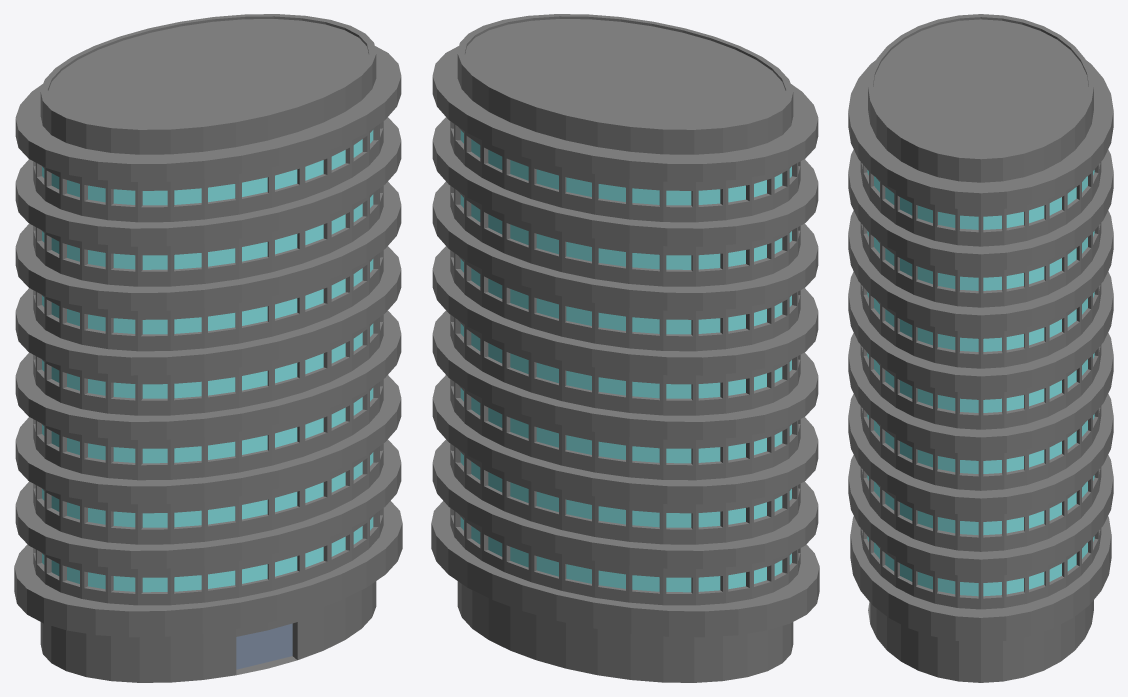
Rendered from oval_building.fbx.
3 views of the same model, side by side, from view 1: azimuth 30°, elevation 25°; view 2: azimuth 150°, elevation 25°; view 3: azimuth 270°, elevation 25° (orthographic). The views are drawn at different scales.
Visible parts, largest first — view 1: Circle.001, Circle.002, Circle; view 2: Circle.001, Circle.002, Circle; view 3: Circle.001, Circle.002, Circle.
Part boxes in pixels (x1=…): Circle.001: x1=15, y1=46, x2=401, y2=605; Circle.002: x1=40, y1=14, x2=376, y2=154; Circle: x1=14, y1=501, x2=402, y2=682; Circle.001: x1=432, y1=46, x2=818, y2=605; Circle.002: x1=457, y1=14, x2=793, y2=154; Circle: x1=431, y1=501, x2=819, y2=682; Circle.001: x1=848, y1=60, x2=1113, y2=609; Circle.002: x1=868, y1=14, x2=1093, y2=182; Circle: x1=850, y1=516, x2=1111, y2=682.
Size of the model in its own units: 584 by 850 by 390.
